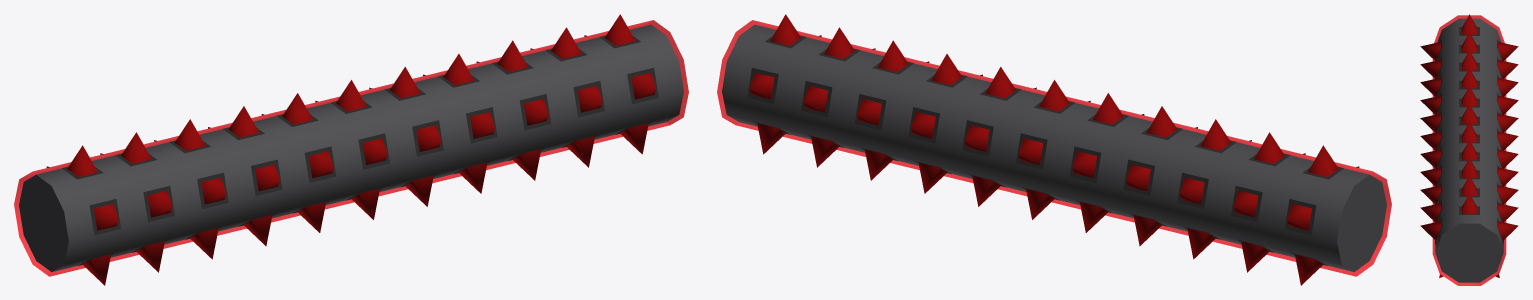
Rendered from spikeBeam.glb.
3 renders of one model, left to right at view 1: azimuth 30°, elevation 25°; view 2: azimuth 150°, elevation 25°; view 3: azimuth 270°, elevation 25°, orthographic. The views are drawn at different scales.
Parts seen in each view (by area): view 1: SpikeBeam; view 2: SpikeBeam; view 3: SpikeBeam.
Part boxes in pixels (x1=…): SpikeBeam: x1=14, y1=14, x2=688, y2=285; SpikeBeam: x1=717, y1=14, x2=1391, y2=285; SpikeBeam: x1=1420, y1=14, x2=1518, y2=285.
Size of what is drawn, in the model's own units: 5.8 by 1.11 by 1.17.
Materials: 2 (2 with a texture image).
